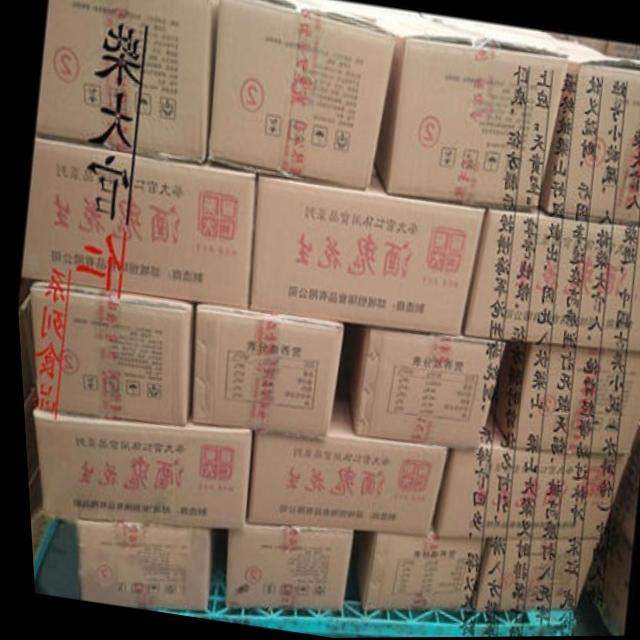box: (362, 4, 571, 210), (17, 136, 255, 310), (245, 163, 484, 335), (206, 0, 397, 190), (32, 0, 219, 167), (241, 401, 442, 537), (457, 208, 640, 356), (426, 407, 624, 541), (28, 410, 247, 531), (26, 279, 191, 427), (185, 302, 342, 447), (339, 326, 500, 449), (536, 40, 640, 227), (483, 343, 640, 455), (68, 517, 203, 612), (221, 522, 349, 614), (350, 524, 477, 615), (463, 538, 592, 612)
